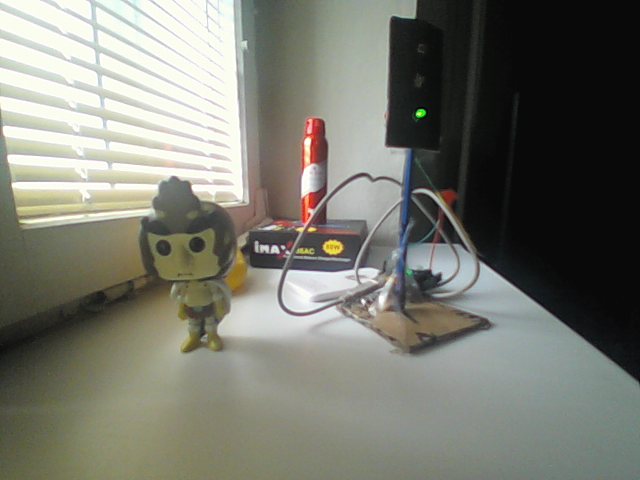green_sign: (384, 18, 447, 146)
